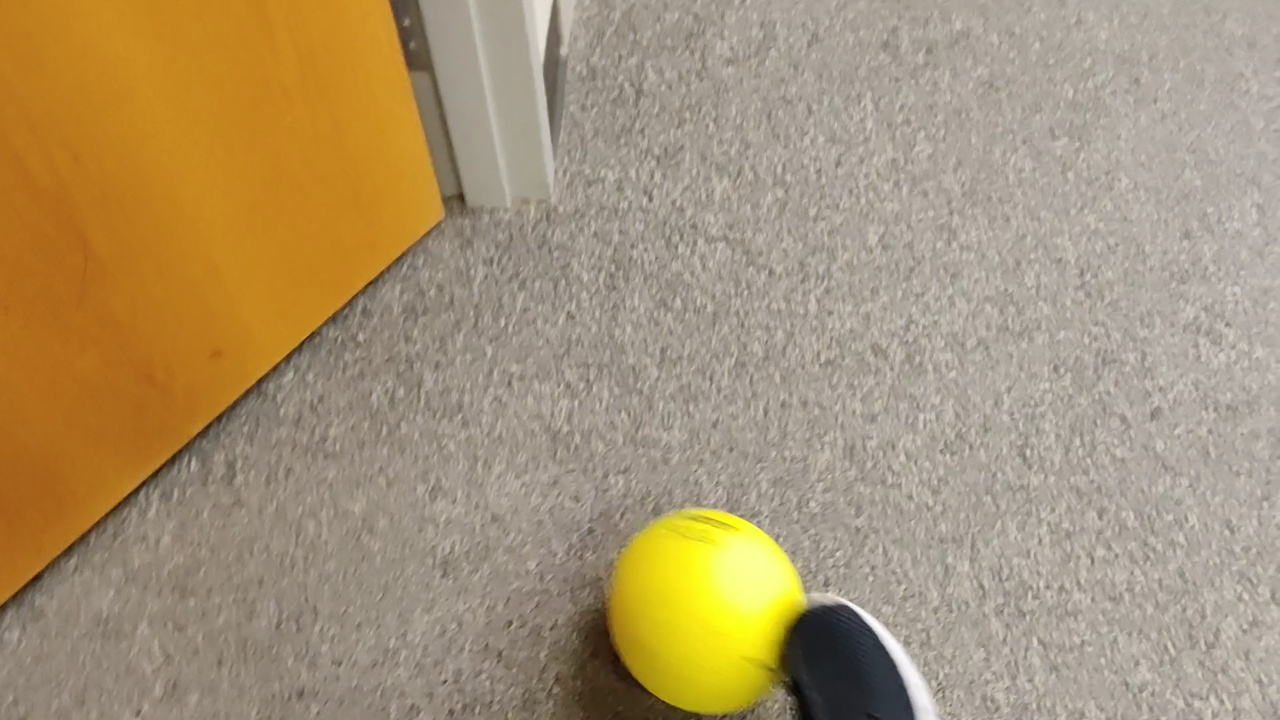Ball: (606, 503, 806, 713)
